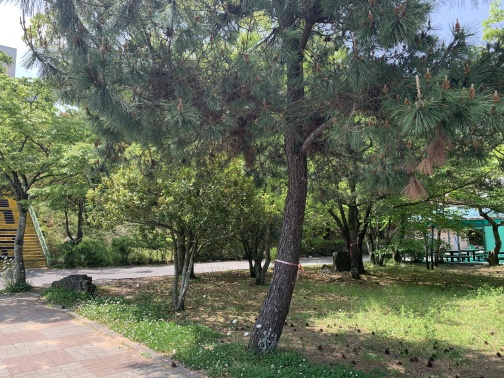Ara Hall: (400, 190, 503, 268)
College Of Education: (1, 43, 35, 85)
